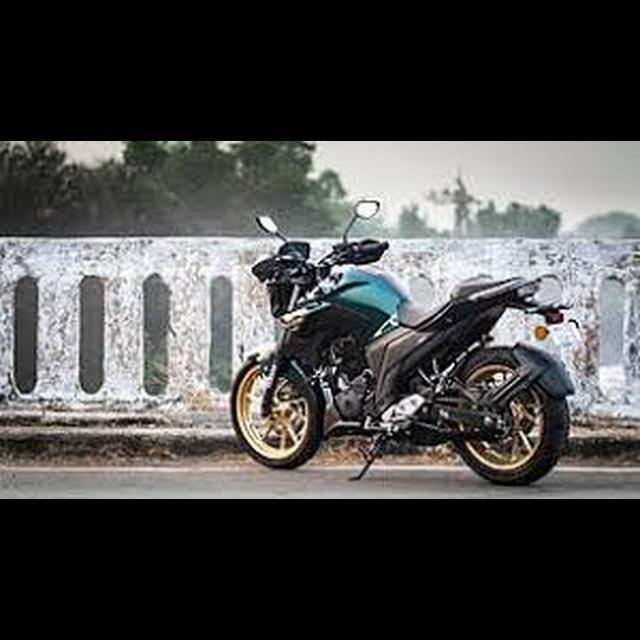motorcycle: (229, 193, 577, 493)
